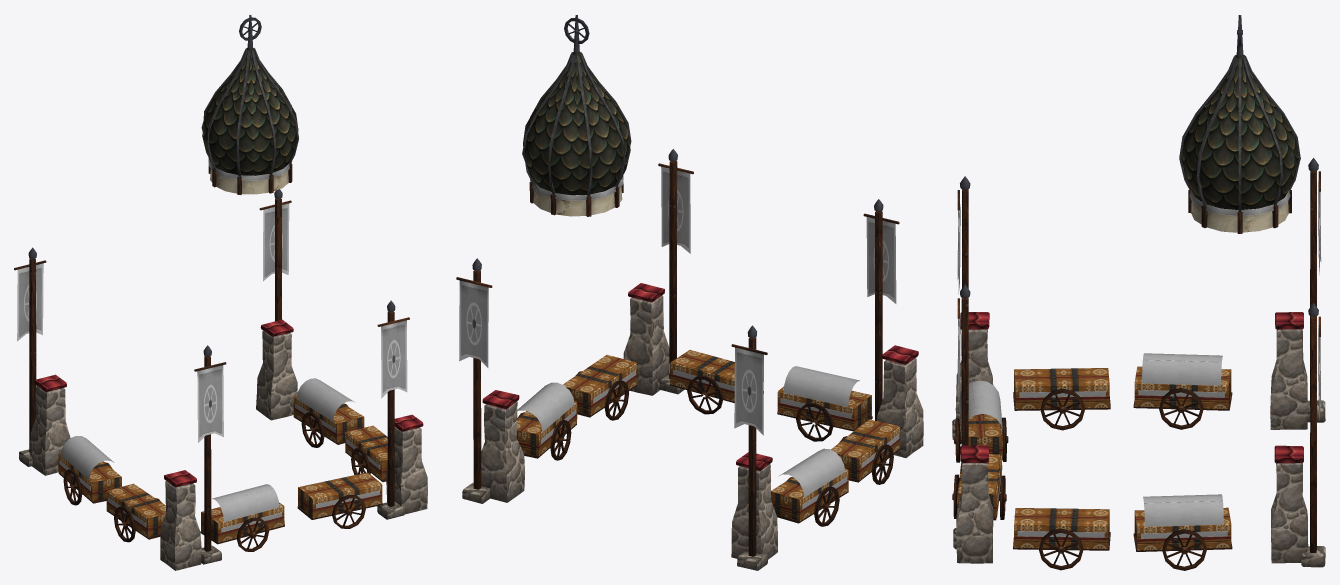
The model's file is kingdom_walled_burg.glb.
3 views of the same model, side by side, from view 1: azimuth 30°, elevation 25°; view 2: azimuth 150°, elevation 25°; view 3: azimuth 270°, elevation 25° (orthographic). The views are drawn at different scales.
Parts seen in each view (by area): view 1: kingdom_walled_burg; view 2: kingdom_walled_burg; view 3: kingdom_walled_burg.
Part boxes in pixels (x1,y1,x2,y2): kingdom_walled_burg: (14, 15, 427, 570); kingdom_walled_burg: (456, 15, 923, 570); kingdom_walled_burg: (952, 15, 1325, 570).
Bounding box in the file's own units: 8.03 × 11.7 × 7.72.
2 materials, 2 textured.
